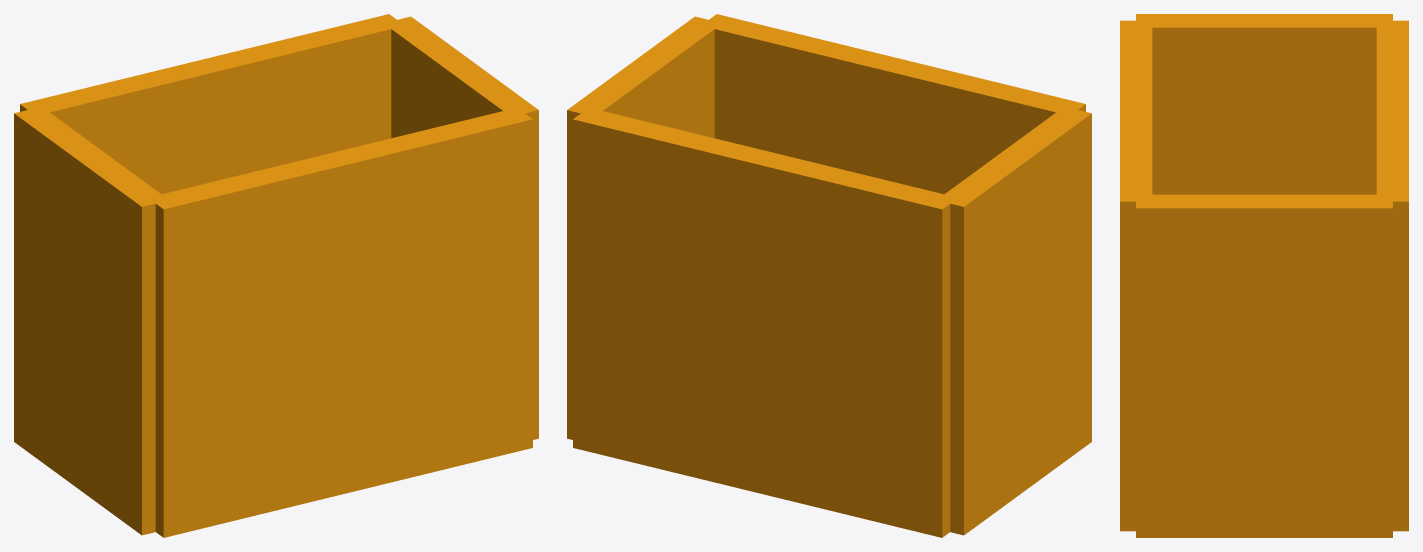
The model's file is outfit_vest.glb.
3 views of the same model, side by side, from view 1: azimuth 30°, elevation 25°; view 2: azimuth 150°, elevation 25°; view 3: azimuth 270°, elevation 25° (orthographic).
Visible parts, largest first — view 1: vest_front, vest_side_r, vest_back, vest_side_l; view 2: vest_back, vest_side_r, vest_front, vest_side_l; view 3: vest_side_l, vest_side_r, vest_front, vest_back.
Boxes of the visible parts, x1=… form: vest_front: x1=148, y1=108, x2=532, y2=537; vest_side_r: x1=14, y1=107, x2=169, y2=535; vest_back: x1=20, y1=14, x2=404, y2=194; vest_side_l: x1=384, y1=16, x2=538, y2=439; vest_back: x1=573, y1=108, x2=956, y2=537; vest_side_r: x1=937, y1=107, x2=1091, y2=535; vest_front: x1=701, y1=14, x2=1085, y2=194; vest_side_l: x1=567, y1=16, x2=720, y2=439; vest_side_l: x1=1136, y1=194, x2=1392, y2=537; vest_side_r: x1=1136, y1=14, x2=1392, y2=194; vest_front: x1=1120, y1=20, x2=1152, y2=531; vest_back: x1=1376, y1=20, x2=1408, y2=531.
Size of the model in its own units: 0.43 by 0.34 by 0.27.
